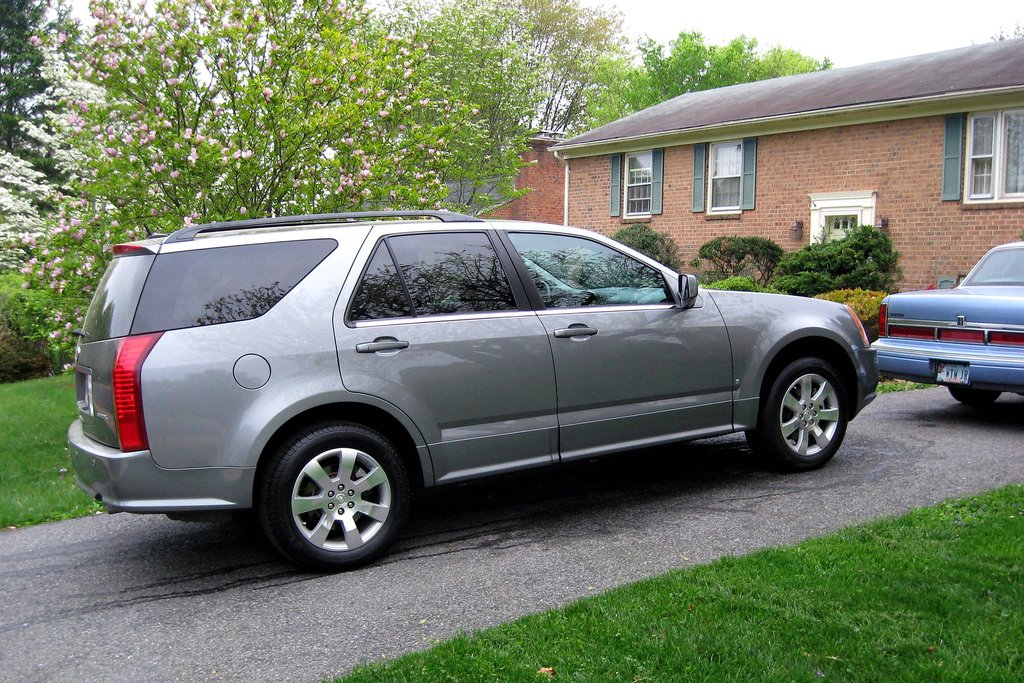Car: (67, 208, 877, 570), (867, 240, 1023, 405)
